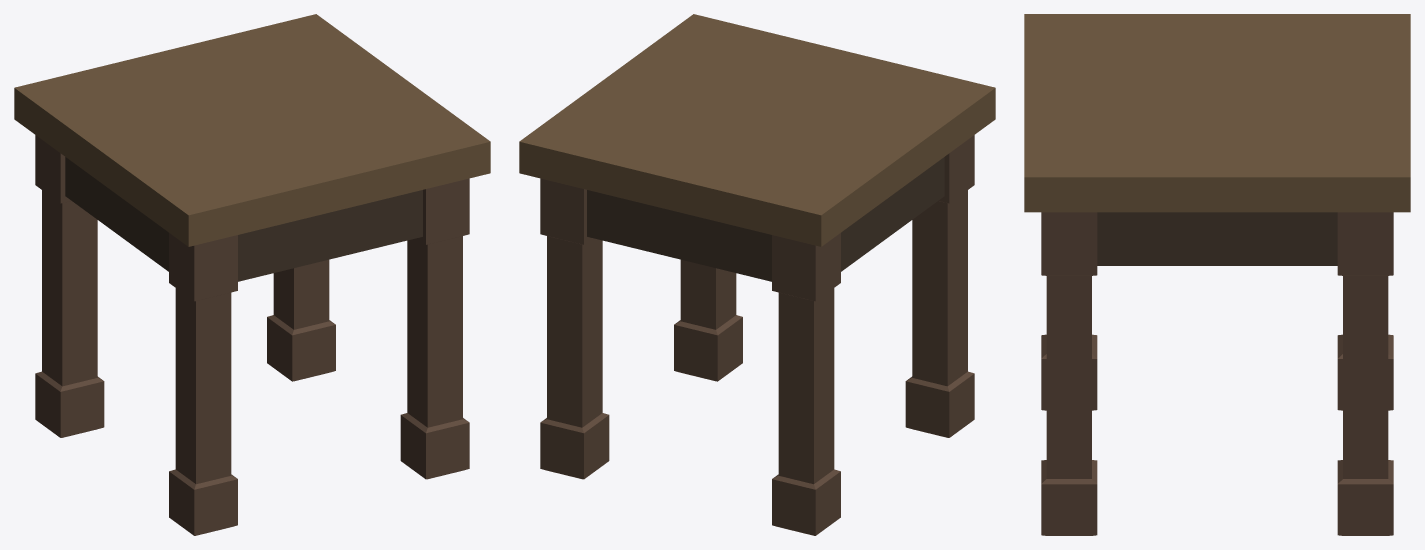
Rendered from Stool_2.fbx.
3 renders of one model, left to right at view 1: azimuth 30°, elevation 25°; view 2: azimuth 150°, elevation 25°; view 3: azimuth 270°, elevation 25°, orthographic. The views are drawn at different scales.
Parts seen in each view (by area): view 1: pCube2448; view 2: pCube2448; view 3: pCube2448.
Boxes of the visible parts, x1,y1,x2,y2 form: pCube2448: (14,14,490,535); pCube2448: (519,14,995,535); pCube2448: (1024,14,1410,535).
Size of the model in its own units: 60 by 63.03 by 60.
